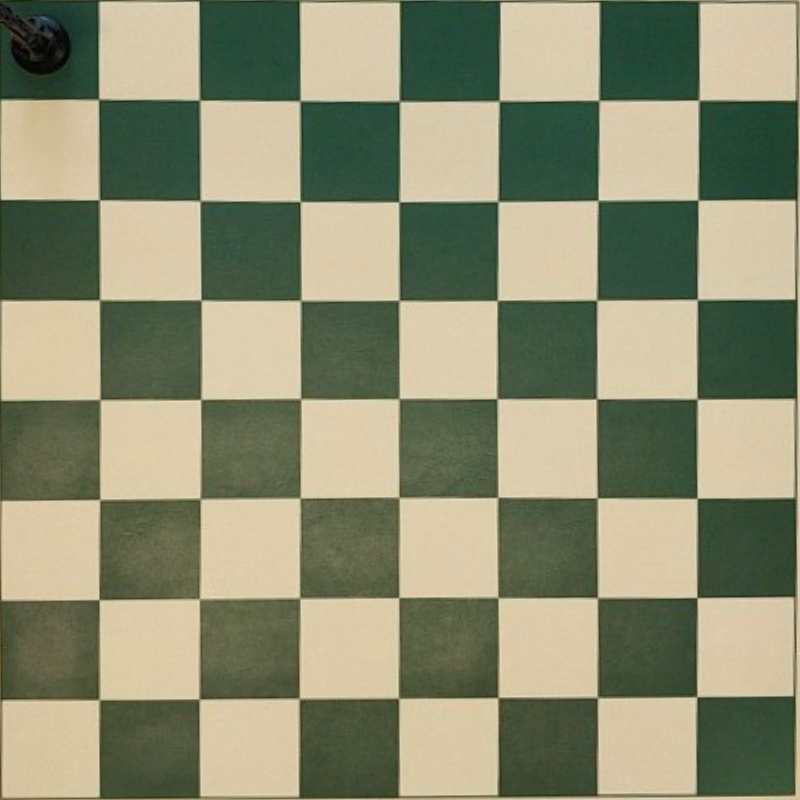black-knight: (1, 7, 70, 74)
